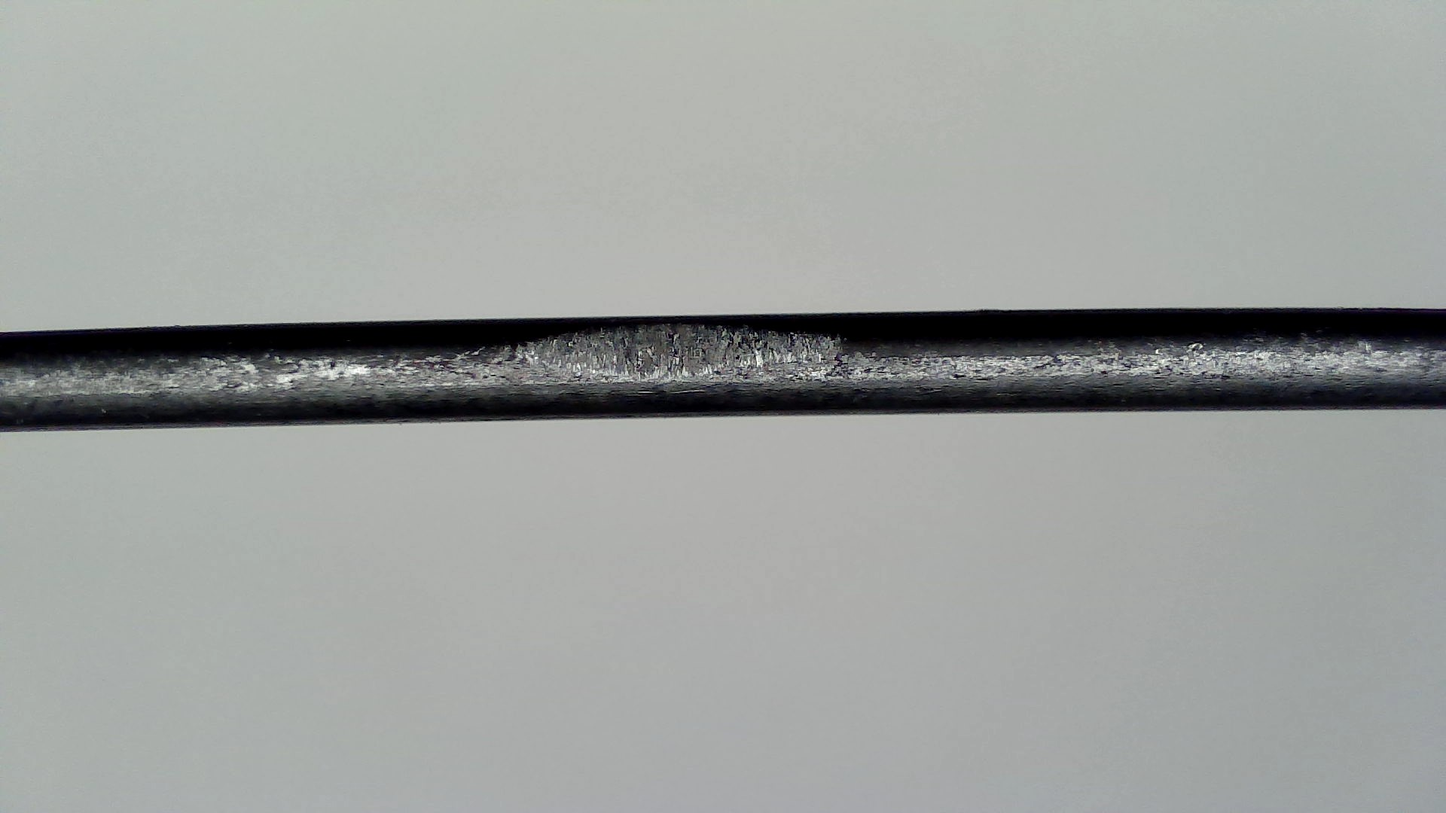defect: (500, 319, 850, 380)
